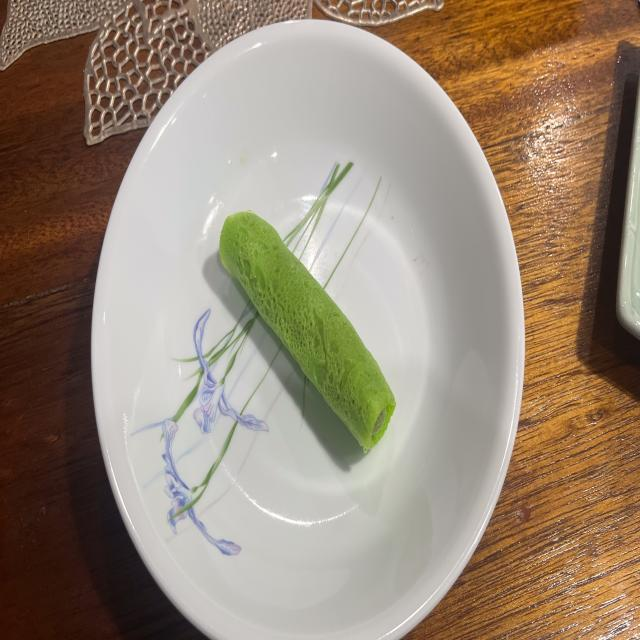Kuih-Ketayap: (220, 211, 395, 449)
